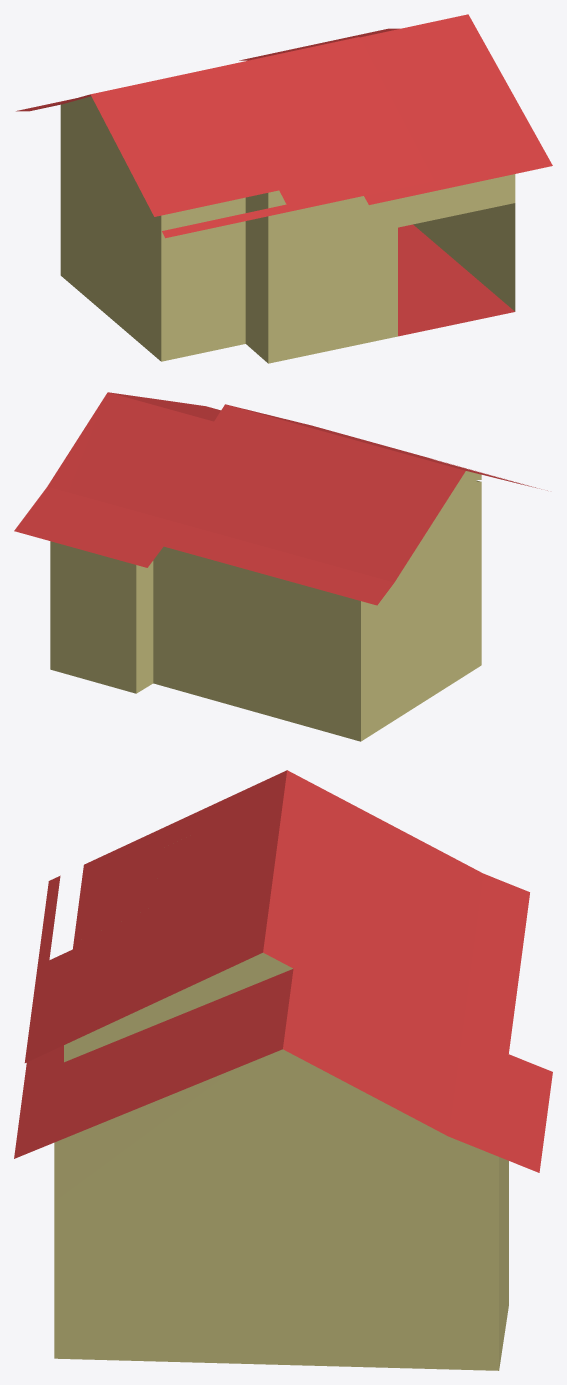
3 views of the same model, one above another, from view 1: azimuth 30°, elevation 25°; view 2: azimuth 150°, elevation 25°; view 3: azimuth 270°, elevation 25° (orthographic). The views are drawn at different scales.
Size of the model in its own units: 21.87 by 18.08 by 12.87.
